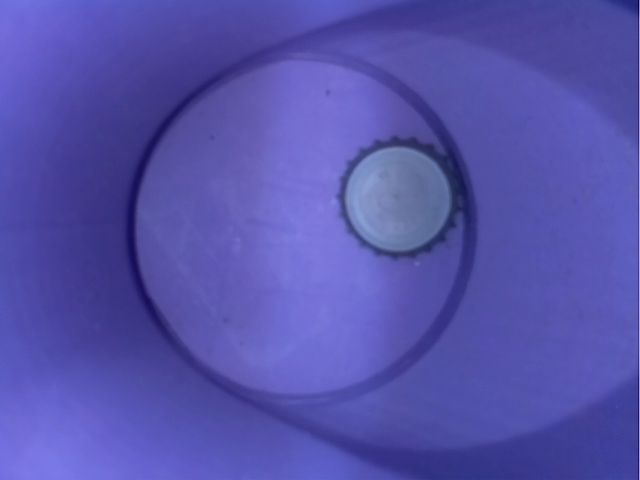capsule: (315, 125, 471, 262)
